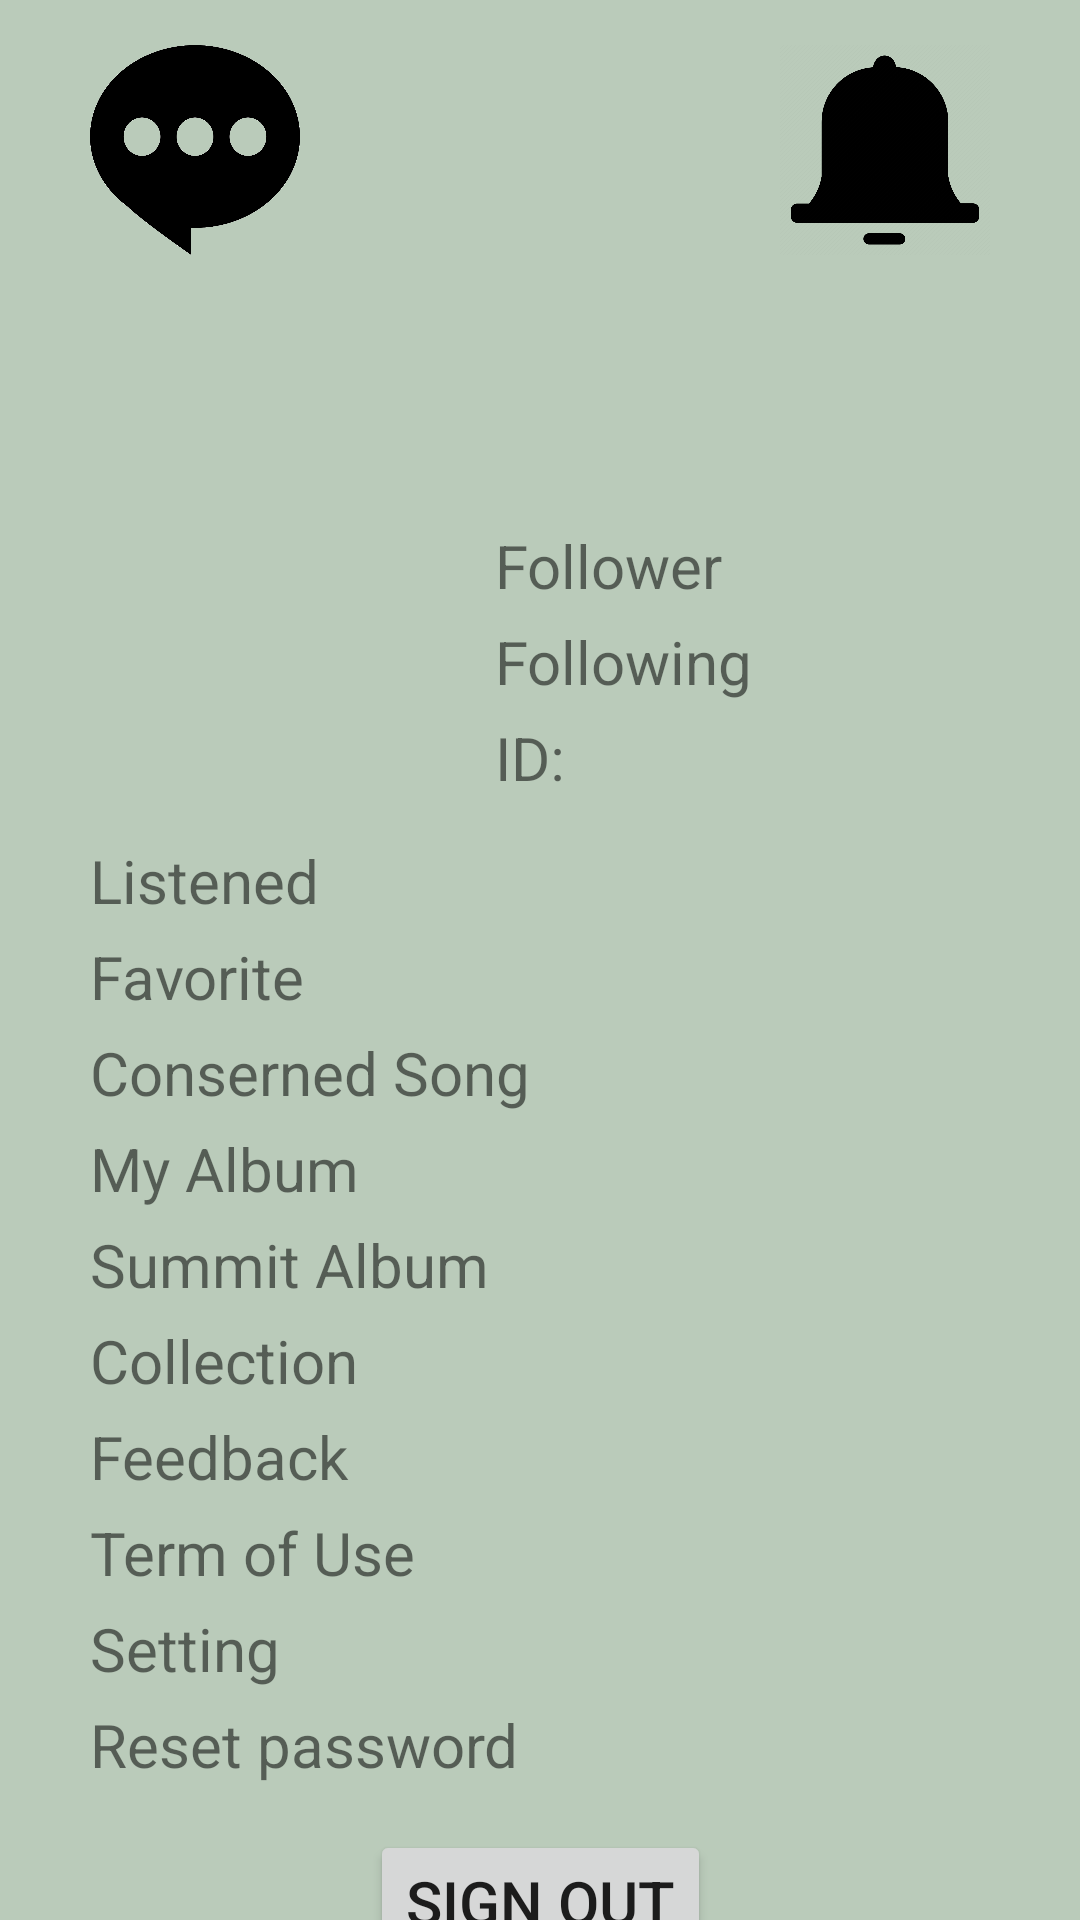

Where to tap for icons on this 1080 × 1920 app screen, as point (x, y):
messa: point (195, 150)
notific: point (885, 150)
